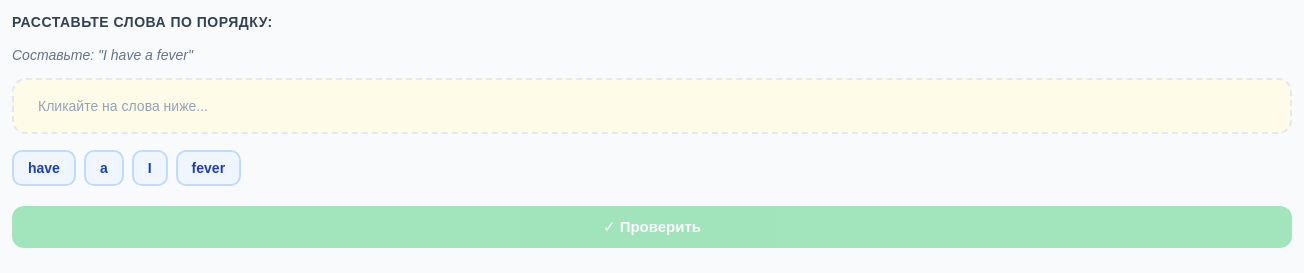
Test case: WordOrderTask › кликнутое слово в предложении возвращается в доступные
Click the button with class "word-chip--available" showing "have" at (44, 168), box [12,150,76,186]
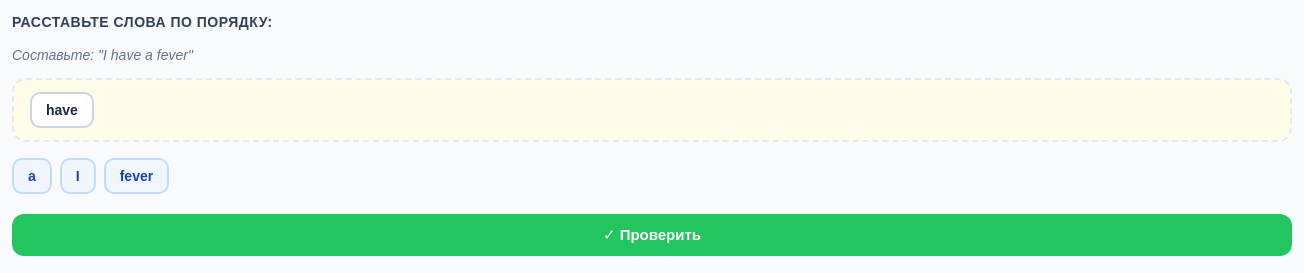
Click the button with class "word-chip--in-sentence" at (62, 110), box [30,92,94,128]
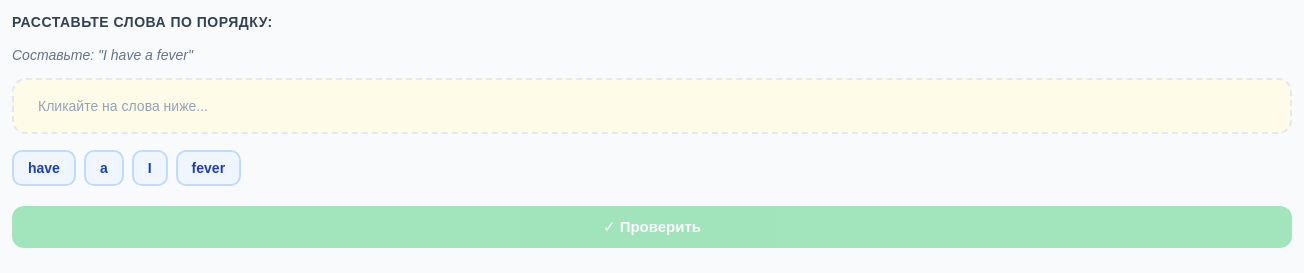
expect the number of buttons with class "word-chip--available" is 4: met, box [12,150,76,186]; [84,150,124,186]; [132,150,168,186]; [176,150,241,186]
expect no buttons with class "word-chip--in-sentence" are shown: met
